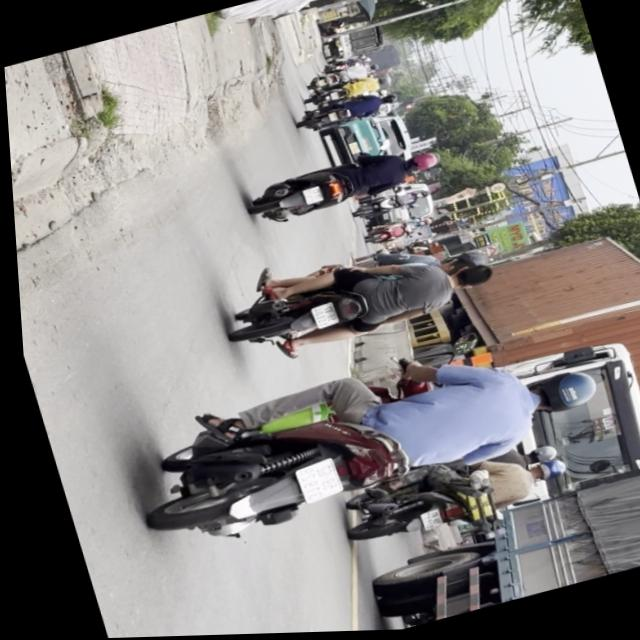helmet: (518, 365, 598, 423), (438, 247, 491, 278), (521, 459, 562, 487), (402, 151, 439, 177), (520, 445, 555, 467)
licenseplate: (109, 314, 617, 561), (207, 216, 506, 374), (331, 445, 575, 558), (240, 138, 446, 232)
motorcyclist: (444, 263, 494, 295)
nohelmet: (287, 457, 338, 504), (305, 302, 334, 330), (411, 509, 436, 532), (298, 185, 322, 206)
